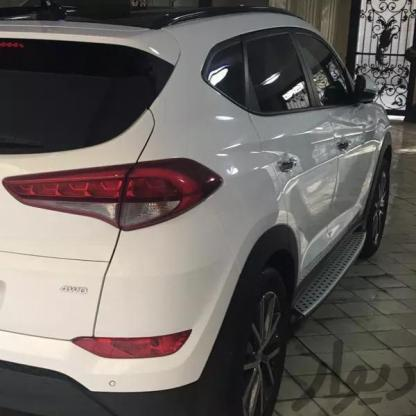Car: (0, 0, 396, 404)
